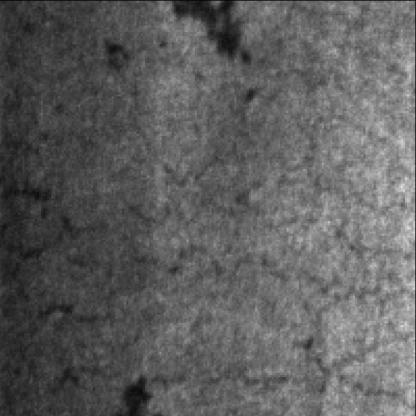crazing: (189, 135, 410, 410), (4, 177, 133, 331), (8, 302, 123, 397)
patches: (172, 2, 256, 67)
